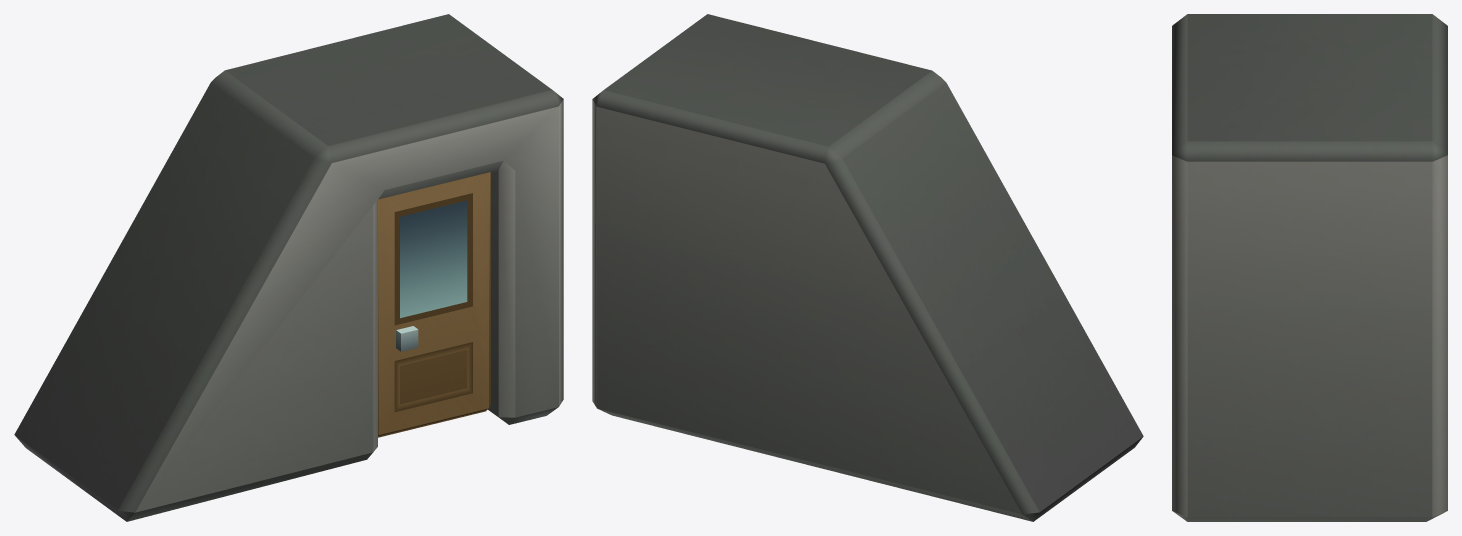
The model's file is rooftop_doorway.fbx.
3 views of the same model, side by side, from view 1: azimuth 30°, elevation 25°; view 2: azimuth 150°, elevation 25°; view 3: azimuth 270°, elevation 25° (orthographic). The views are drawn at different scales.
Parts seen in each view (by area): view 1: rooftop_doorway, door_wood_rooftop_doorway; view 2: rooftop_doorway; view 3: rooftop_doorway.
Part boxes in pixels (box(x1,y1,x2,y2)): rooftop_doorway: box(14, 14, 563, 521); door_wood_rooftop_doorway: box(378, 172, 490, 437); rooftop_doorway: box(592, 14, 1143, 521); rooftop_doorway: box(1172, 14, 1447, 521).
Size of the model in its own units: 386 by 272 by 175.
